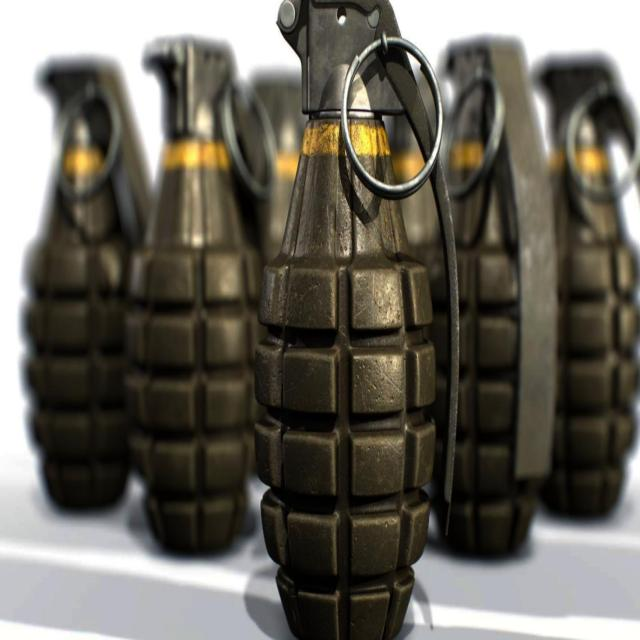grenade: (254, 1, 461, 640), (121, 41, 271, 561), (432, 37, 560, 557), (21, 58, 151, 514), (532, 54, 640, 520)
